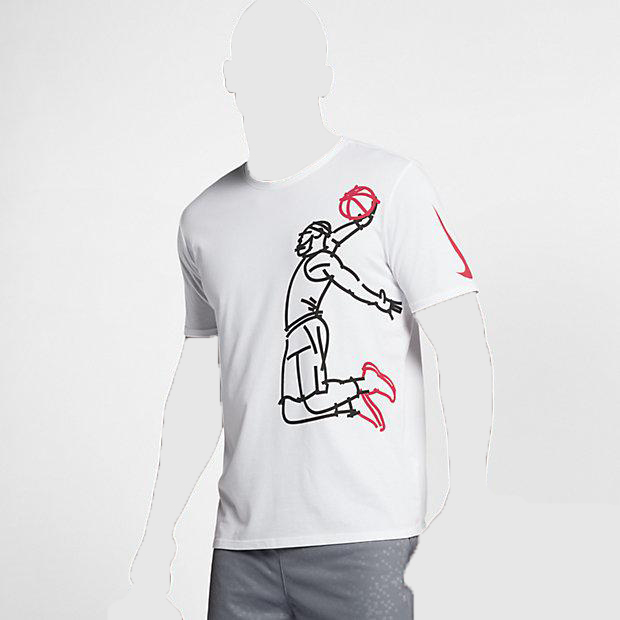teeshirt: (171, 137, 504, 553)
